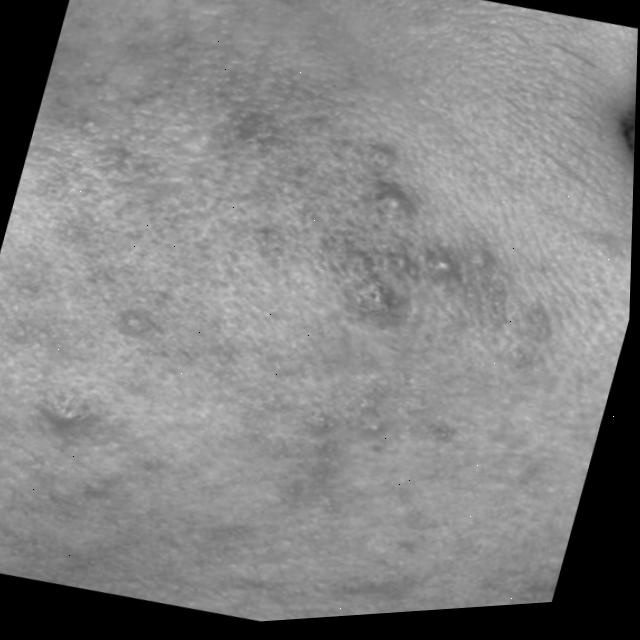Rosacea: (24, 69, 551, 540)
